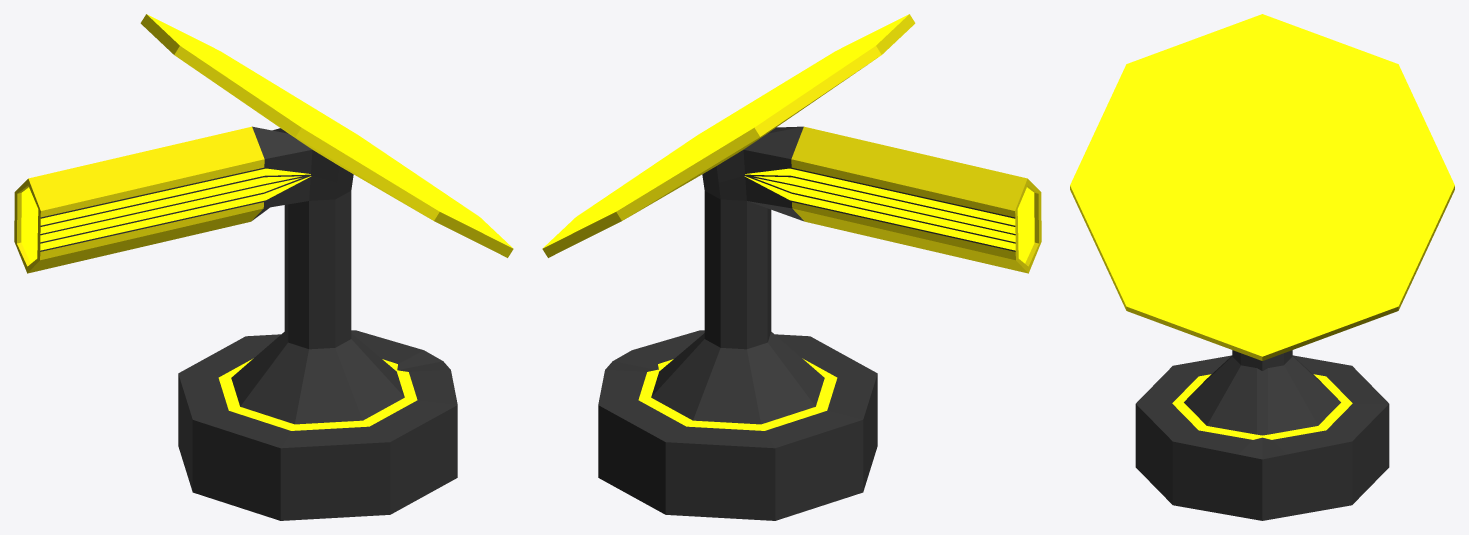
File: TurretRailgun.fbx
The picture shows the model from 3 angles, left to right: view 1: azimuth 30°, elevation 25°; view 2: azimuth 150°, elevation 25°; view 3: azimuth 270°, elevation 25°; orthographic projection. The views are drawn at different scales.
Parts seen in each view (by area): view 1: Railgun; view 2: Railgun; view 3: Railgun.
Boxes of the visible parts, x1,y1,x2,y2 form: Railgun: [14, 14, 513, 520]; Railgun: [542, 14, 1041, 520]; Railgun: [1070, 14, 1454, 520].
Size of the model in its own units: 1190 by 1130 by 999.
